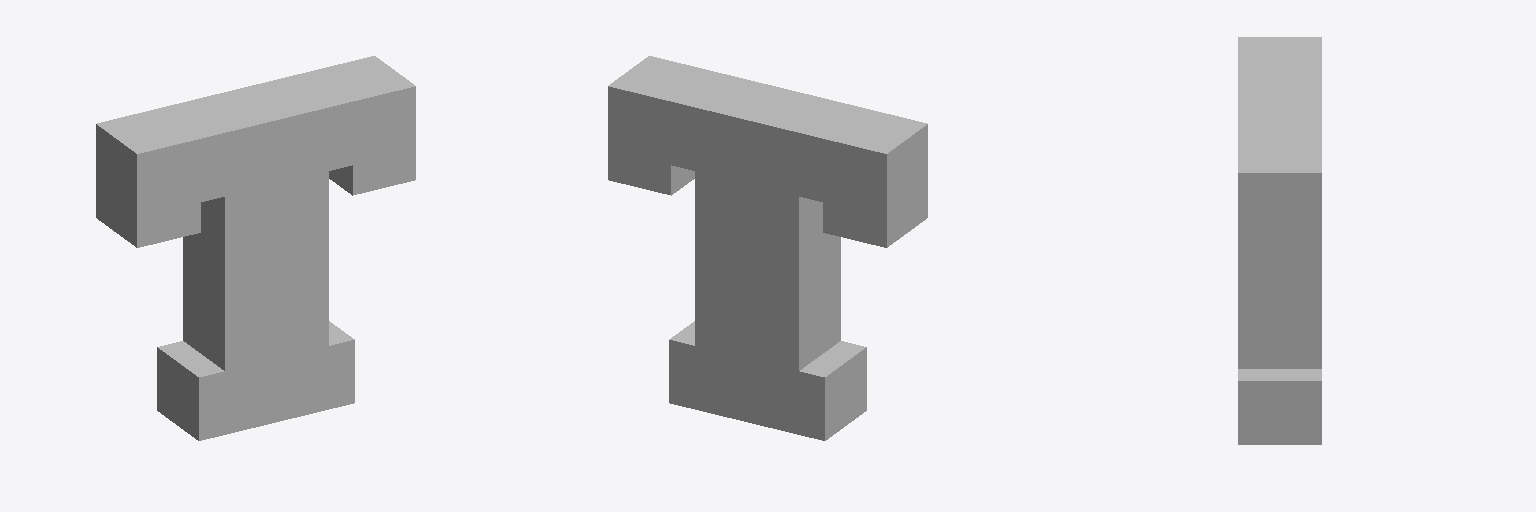
3 views of the same model, side by side, from view 1: azimuth 30°, elevation 25°; view 2: azimuth 150°, elevation 25°; view 3: azimuth 270°, elevation 25° (orthographic).
Parts seen in each view (by area): view 1: text: ABCDEFGHIJKLMNOPQRSTUVWXYZ[number redacted]; view 2: text: ABCDEFGHIJKLMNOPQRSTUVWXYZ[number redacted]; view 3: text: ABCDEFGHIJKLMNOPQRSTUVWXYZ[number redacted].
Boxes of the visible parts, x1=… form: text: ABCDEFGHIJKLMNOPQRSTUVWXYZ[number redacted]: x1=96, y1=56, x2=415, y2=440; text: ABCDEFGHIJKLMNOPQRSTUVWXYZ[number redacted]: x1=608, y1=56, x2=927, y2=440; text: ABCDEFGHIJKLMNOPQRSTUVWXYZ[number redacted]: x1=1238, y1=37, x2=1321, y2=444.
Bounding box in the file's own units: 96.66 × 100 × 25.